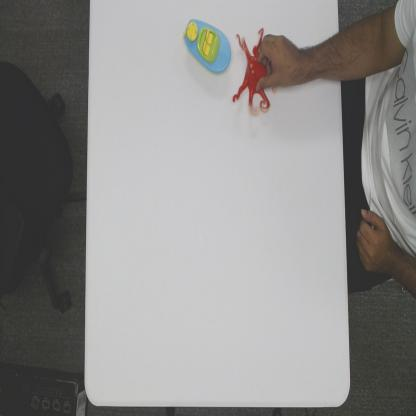Arm: (306, 1, 416, 86)
Boat: (182, 16, 232, 76)
Hand: (254, 32, 306, 92)
Octopus: (232, 27, 273, 118)
